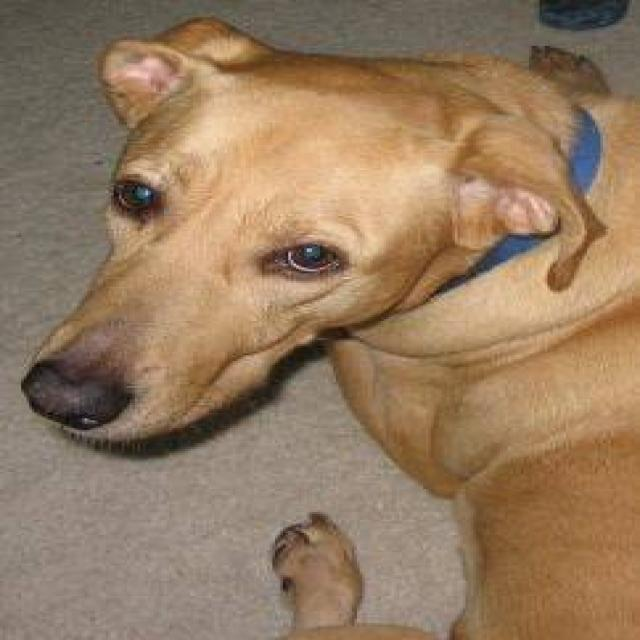dog: (18, 13, 638, 638)
